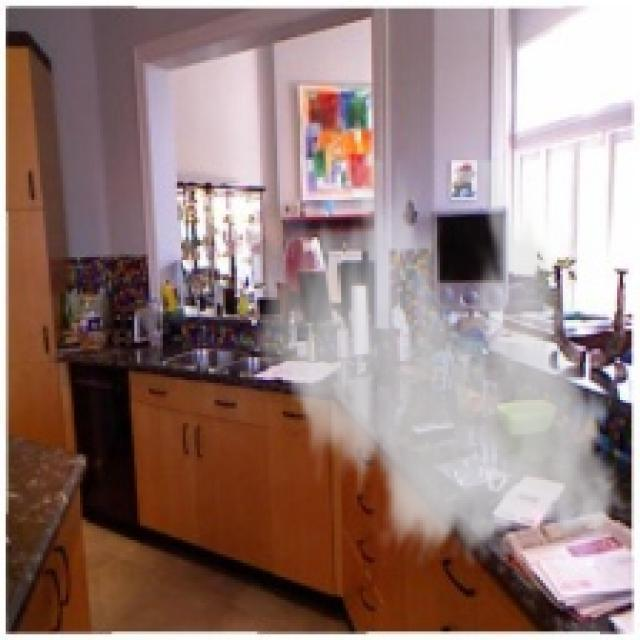Smoke: (242, 157, 638, 569)
